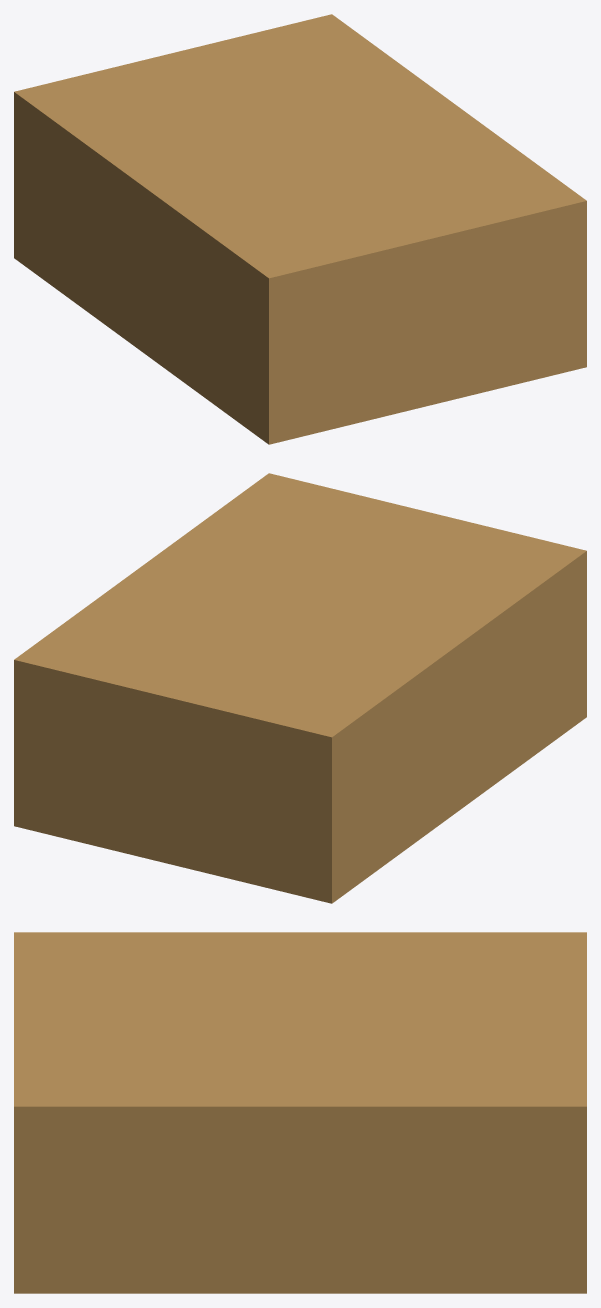
3 renders of one model, top to bottom at view 1: azimuth 30°, elevation 25°; view 2: azimuth 150°, elevation 25°; view 3: azimuth 270°, elevation 25°, orthographic. The views are drawn at different scales.
Parts seen in each view (by area): view 1: RUN-027-S00-bottom_plate; view 2: RUN-027-S00-bottom_plate; view 3: RUN-027-S00-bottom_plate.
Part boxes in pixels (x1,y1,x2,y2): RUN-027-S00-bottom_plate: [14, 14, 586, 444]; RUN-027-S00-bottom_plate: [14, 473, 586, 903]; RUN-027-S00-bottom_plate: [14, 932, 586, 1293].
Bounding box in the file's own units: 0.09 × 0.045 × 0.125.
